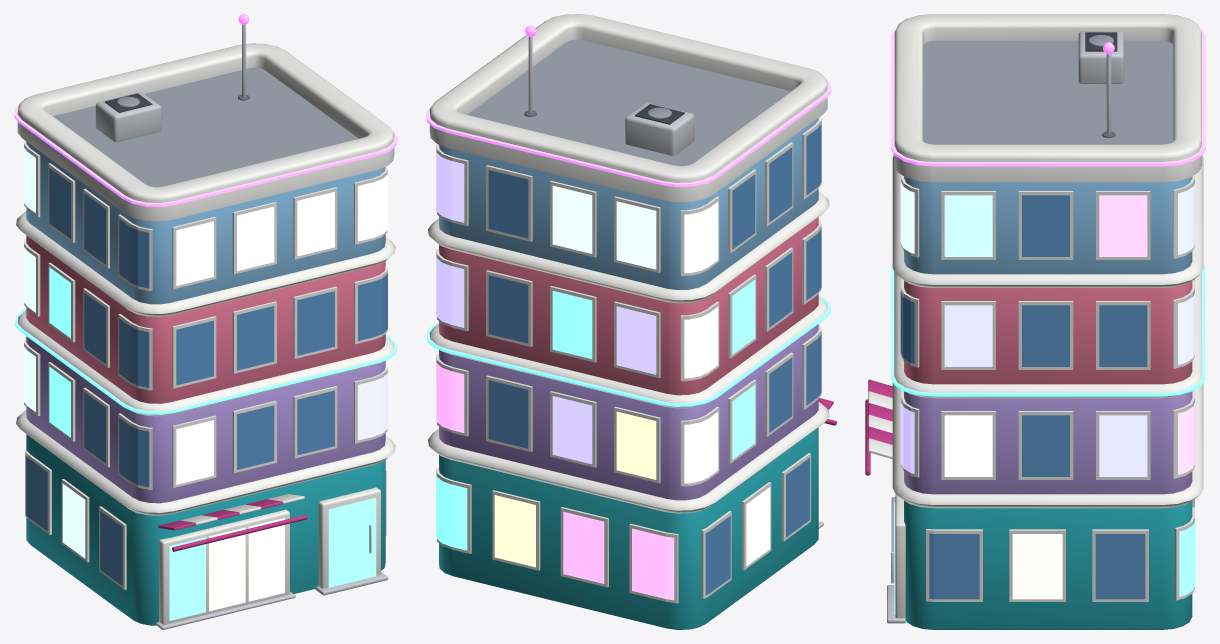
Rendered from predio_caixa_listras_lilas.glb.
The picture shows the model from 3 angles, left to right: view 1: azimuth 30°, elevation 25°; view 2: azimuth 150°, elevation 25°; view 3: azimuth 270°, elevation 25°; orthographic projection. The views are drawn at different scales.
Visible parts, largest first — view 1: predio_caixa_listras_lilas; view 2: predio_caixa_listras_lilas; view 3: predio_caixa_listras_lilas.
Boxes of the visible parts, x1,y1,x2,y2 form: predio_caixa_listras_lilas: (14,14,397,629); predio_caixa_listras_lilas: (426,14,836,629); predio_caixa_listras_lilas: (865,14,1205,629).
Bounding box in the file's own units: 9.1 × 16.2 × 8.97.
Materials: 11 (1 with a texture image).
